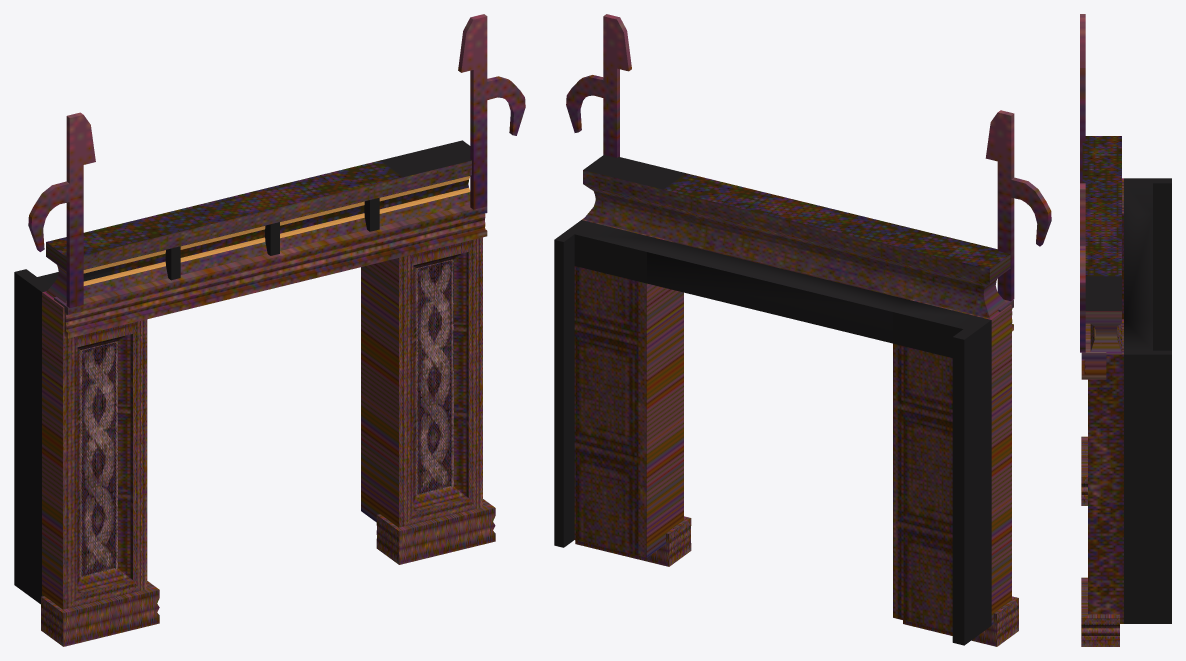
The model's file is ElevatorFrameDoor.fbx.
The picture shows the model from 3 angles, left to right: view 1: azimuth 30°, elevation 25°; view 2: azimuth 150°, elevation 25°; view 3: azimuth 270°, elevation 25°; orthographic projection. The views are drawn at different scales.
Visible parts, largest first — view 1: RibbedDeco; view 2: RibbedDeco; view 3: RibbedDeco.
Boxes of the visible parts, x1,y1,x2,y2 form: RibbedDeco: [14, 14, 525, 646]; RibbedDeco: [554, 14, 1051, 646]; RibbedDeco: [1080, 14, 1171, 646].
Size of the model in its own units: 7096 by 7246 by 1326.
